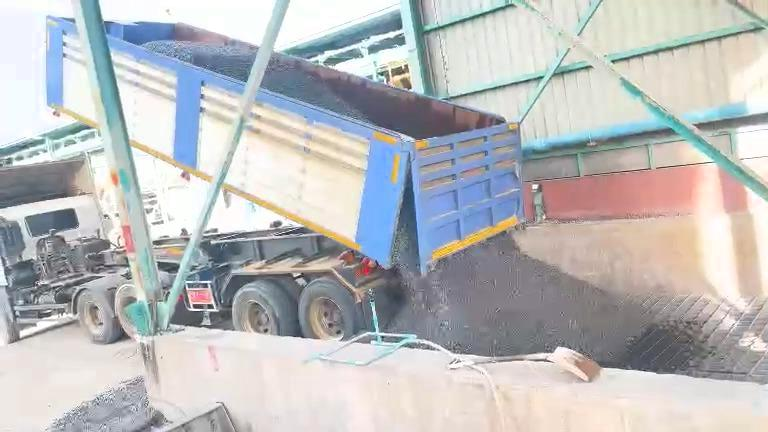gravel: (389, 234, 643, 359), (263, 56, 368, 120), (47, 376, 160, 431), (143, 41, 257, 81), (392, 189, 421, 278)
